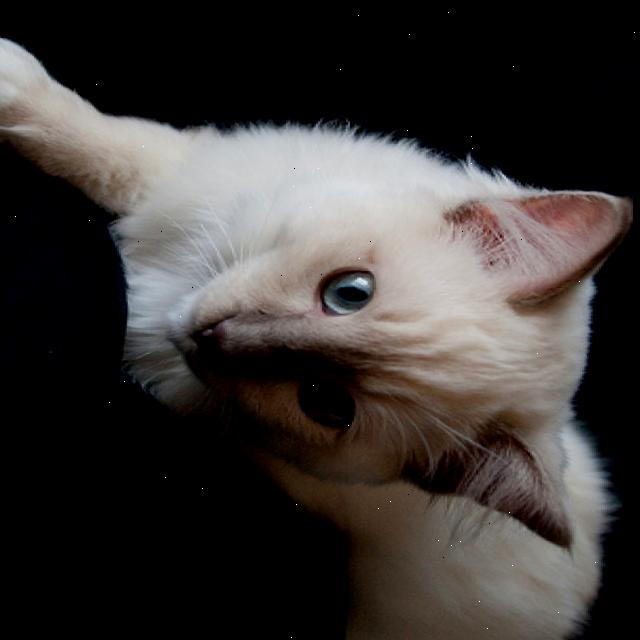Ragdoll: (0, 30, 639, 640)
